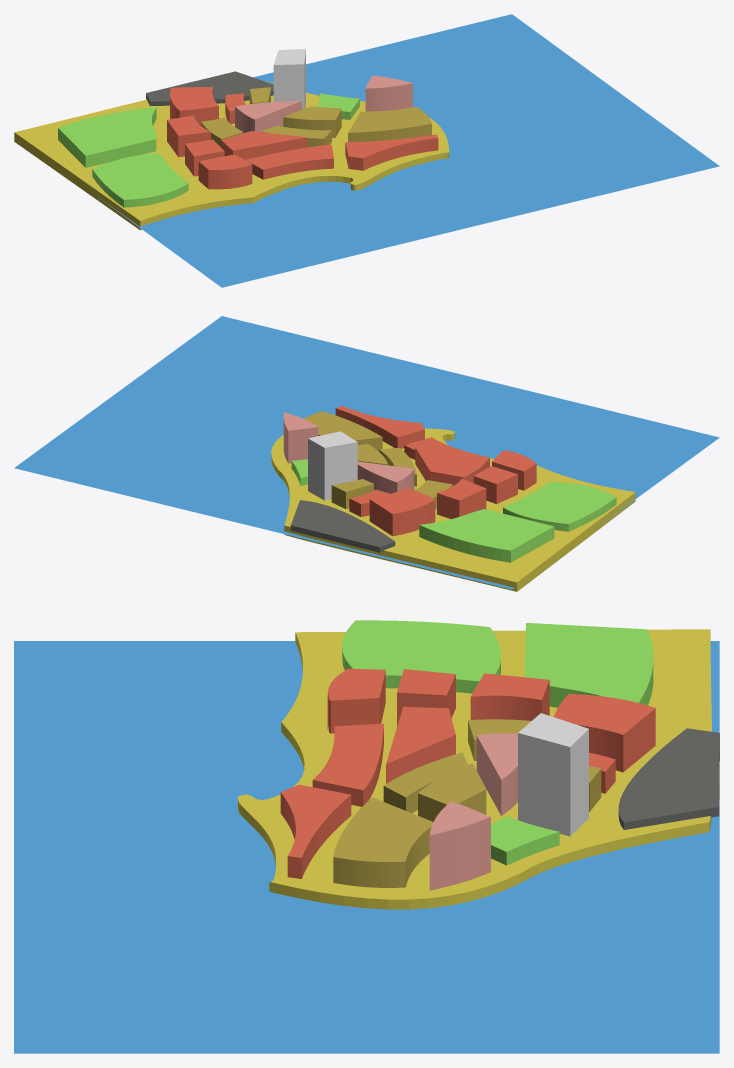
File: Map1.0.fbx
3 renders of one model, top to bottom at view 1: azimuth 30°, elevation 25°; view 2: azimuth 150°, elevation 25°; view 3: azimuth 270°, elevation 25°, orthographic. The views are drawn at different scales.
Visible parts, largest first — view 1: Plane.001, BézierCurve.017, BézierCurve.019, BézierCurve.020, BézierCurve.002, BézierCurve.001, BézierCurve, BézierCurve.016, BézierCurve.003, BézierCurve.009, BézierCurve.014, BézierCurve.006 (+8 smaller); view 2: Plane.001, BézierCurve.017, BézierCurve.019, BézierCurve.020, BézierCurve.016, BézierCurve.009, BézierCurve.015, BézierCurve.001, BézierCurve.018, BézierCurve.003, BézierCurve.006, BézierCurve.002 (+8 smaller); view 3: Plane.001, BézierCurve.017, BézierCurve.019, BézierCurve.020, BézierCurve.009, BézierCurve.016, BézierCurve.002, BézierCurve.015, BézierCurve.008, BézierCurve.001, BézierCurve, BézierCurve.003 (+8 smaller).
Boxes of the visible parts, x1,y1,x2,y2 form: Plane.001: [99, 14, 719, 287]; BézierCurve.017: [14, 80, 449, 230]; BézierCurve.019: [58, 107, 156, 167]; BézierCurve.020: [92, 153, 188, 207]; BézierCurve.002: [348, 106, 431, 142]; BézierCurve.001: [345, 134, 438, 170]; BézierCurve: [245, 144, 333, 179]; BézierCurve.016: [146, 71, 273, 105]; BézierCurve.003: [221, 131, 307, 159]; BézierCurve.009: [273, 48, 305, 109]; BézierCurve.014: [198, 154, 252, 189]; BézierCurve.006: [235, 101, 301, 133]; Plane.001: [14, 316, 719, 589]; BézierCurve.017: [271, 414, 635, 591]; BézierCurve.019: [419, 509, 554, 562]; BézierCurve.020: [503, 482, 616, 531]; BézierCurve.016: [290, 500, 395, 552]; BézierCurve.009: [308, 431, 357, 500]; BézierCurve.015: [369, 487, 435, 536]; BézierCurve.001: [335, 406, 424, 448]; BézierCurve.018: [437, 478, 486, 519]; BézierCurve.003: [415, 447, 479, 485]; BézierCurve.006: [357, 461, 414, 493]; BézierCurve.002: [304, 411, 382, 451]; Plane.001: [14, 641, 719, 1053]; BézierCurve.017: [238, 629, 711, 909]; BézierCurve.019: [524, 623, 653, 707]; BézierCurve.020: [342, 620, 500, 693]; BézierCurve.009: [518, 713, 588, 836]; BézierCurve.016: [618, 728, 719, 829]; BézierCurve.002: [333, 797, 433, 887]; BézierCurve.015: [553, 694, 655, 772]; BézierCurve.008: [429, 801, 490, 890]; BézierCurve.001: [280, 784, 351, 878]; BézierCurve: [312, 723, 383, 806]; BézierCurve.003: [386, 706, 455, 783].
Size of the model in its own units: 12733 by 1513 by 9168.
